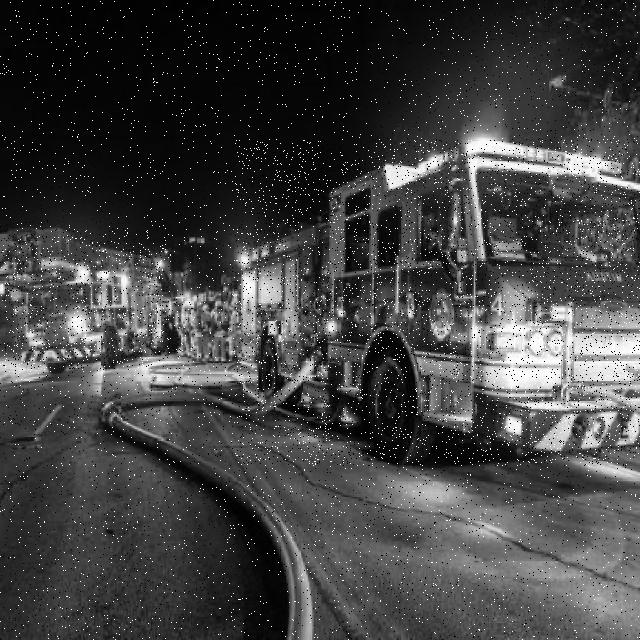Fire Truck: (236, 139, 640, 466), (0, 228, 171, 370)
